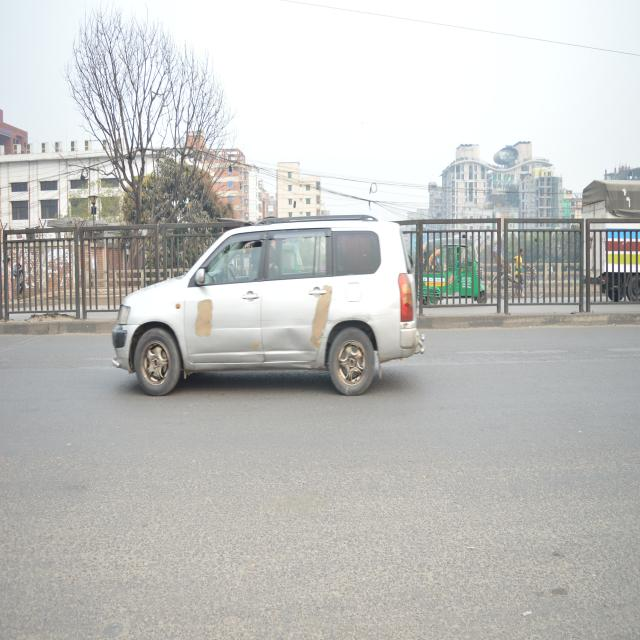car: (108, 208, 422, 415)
pickup-van: (580, 174, 640, 314)
